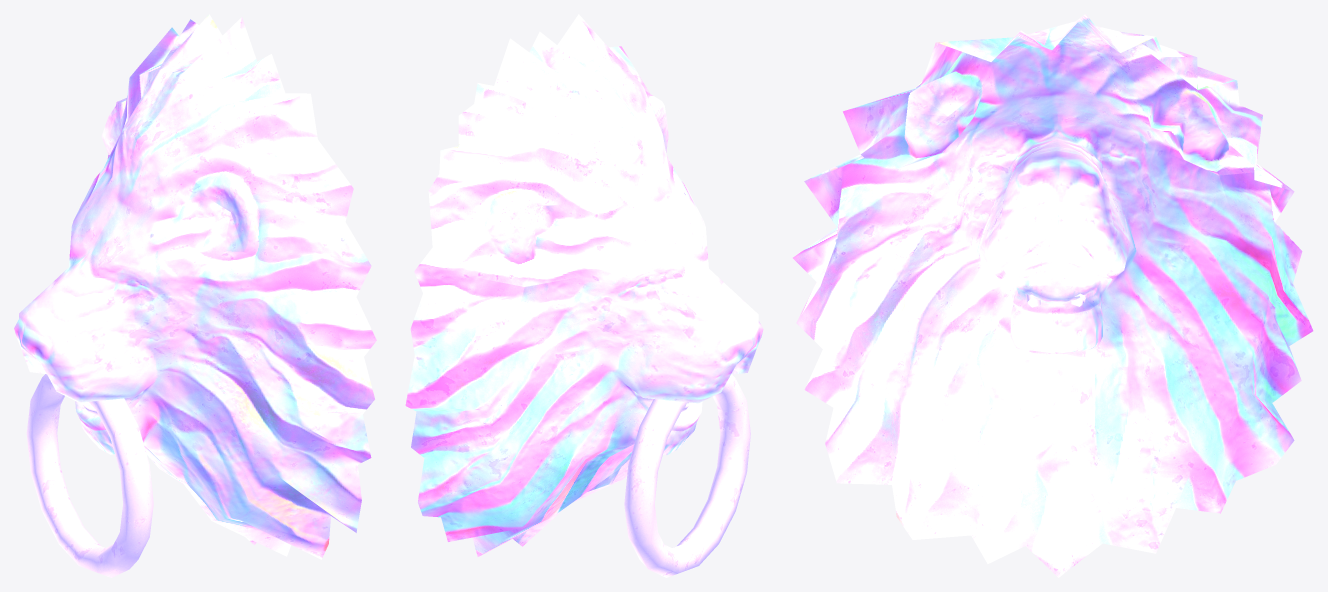
The model's file is lion_low_poly_SM.fbx.
The picture shows the model from 3 angles, left to right: view 1: azimuth 30°, elevation 25°; view 2: azimuth 150°, elevation 25°; view 3: azimuth 270°, elevation 25°; orthographic projection. The views are drawn at different scales.
Parts seen in each view (by area): view 1: lion_low_poly_SM_LOD0; view 2: lion_low_poly_SM_LOD0; view 3: lion_low_poly_SM_LOD0.
Part boxes in pixels (<box>): lion_low_poly_SM_LOD0: <box>14,14,376,577</box>; lion_low_poly_SM_LOD0: <box>405,14,763,577</box>; lion_low_poly_SM_LOD0: <box>793,14,1313,577</box>.
Size of the model in its own units: 27.27 by 48.74 by 58.22.
1 material, 1 textured.
